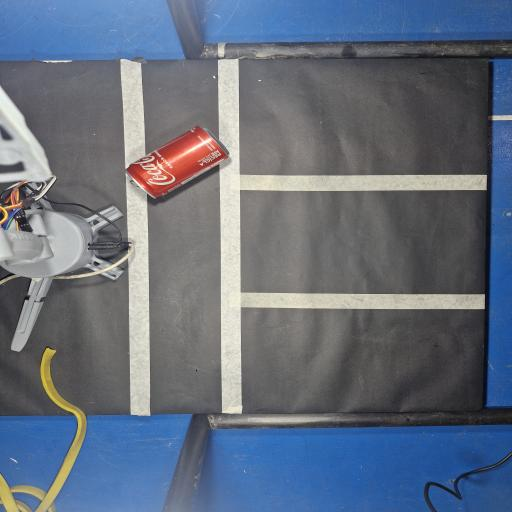lata: (126, 126, 229, 198)
